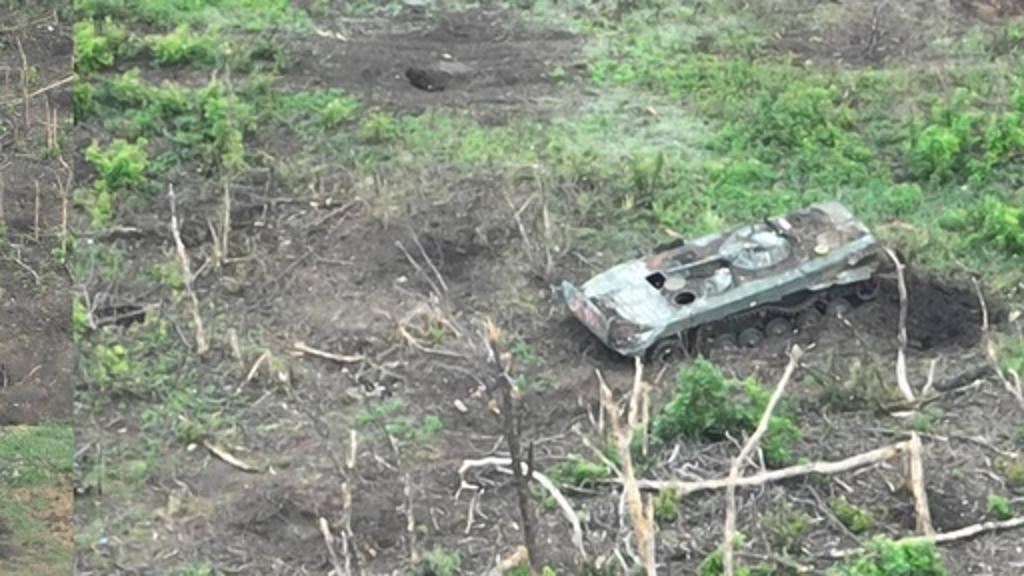APC-IFV: (544, 196, 876, 366)
